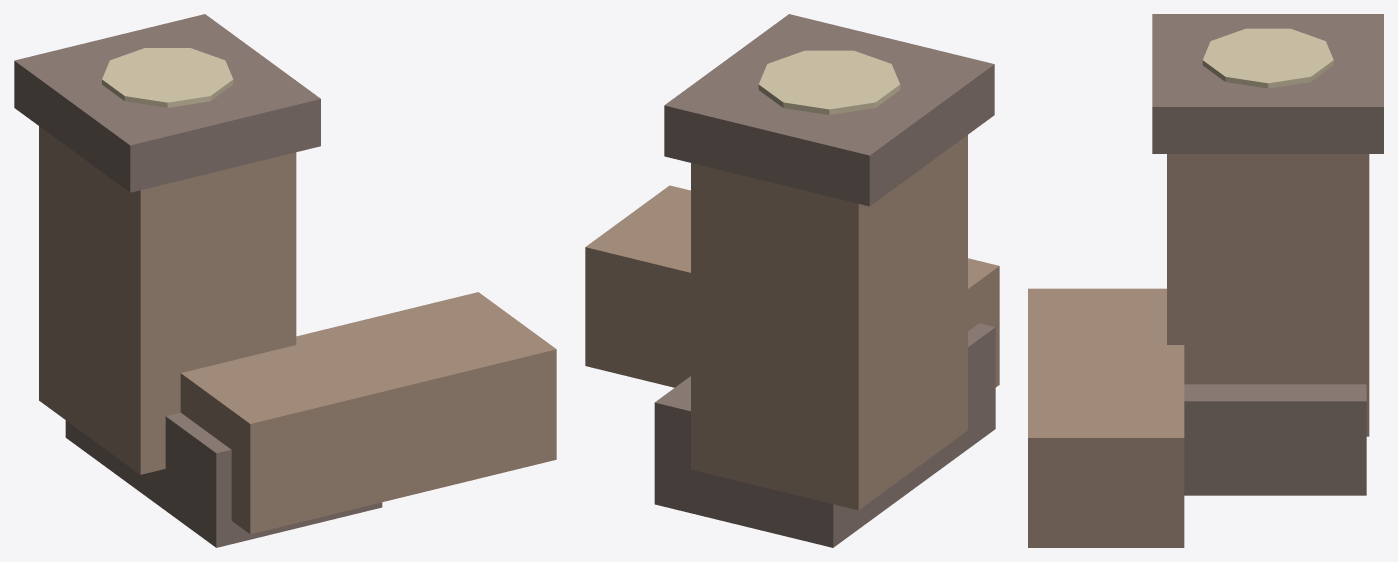
Rendered from bota_vieja.glb.
The picture shows the model from 3 angles, left to right: view 1: azimuth 30°, elevation 25°; view 2: azimuth 150°, elevation 25°; view 3: azimuth 270°, elevation 25°; orthographic projection. The views are drawn at different scales.
Parts seen in each view (by area): view 1: bota_vieja; view 2: bota_vieja; view 3: bota_vieja.
Part boxes in pixels (x1,y1,x2,y2): bota_vieja: (14,14,556,547); bota_vieja: (585,14,999,547); bota_vieja: (1028,14,1383,547).
Bounding box in the file's own units: 0.725 × 0.735 × 0.615.
